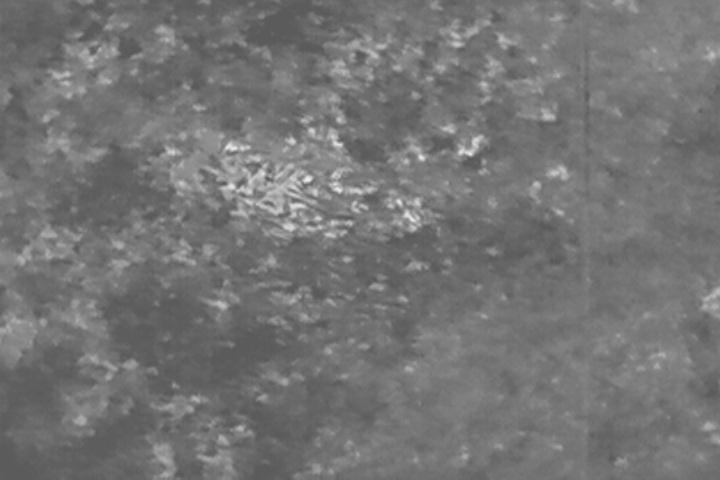landmine: (330, 166, 379, 199)
